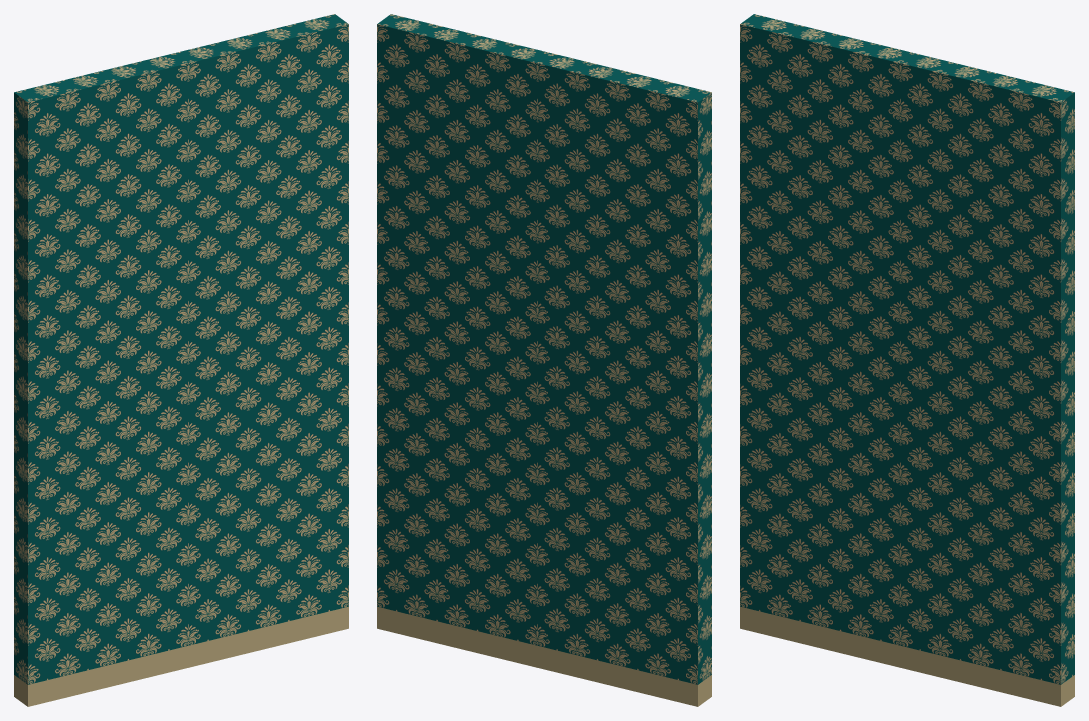
The model's file is ARC0210055.fbx.
The picture shows the model from 3 angles, left to right: view 1: azimuth 30°, elevation 25°; view 2: azimuth 150°, elevation 25°; view 3: azimuth 330°, elevation 25°; orthographic projection.
Parts seen in each view (by area): view 1: smARC0210055; view 2: smARC0210055; view 3: smARC0210055.
Boxes of the visible parts, left/top/right/bottom form: smARC0210055: left=14, top=14, right=348, bottom=706; smARC0210055: left=377, top=14, right=711, bottom=706; smARC0210055: left=740, top=14, right=1074, bottom=706.
Bounding box in the file's own units: 182 × 328 × 13.67.
Materials: 1 (1 with a texture image).
